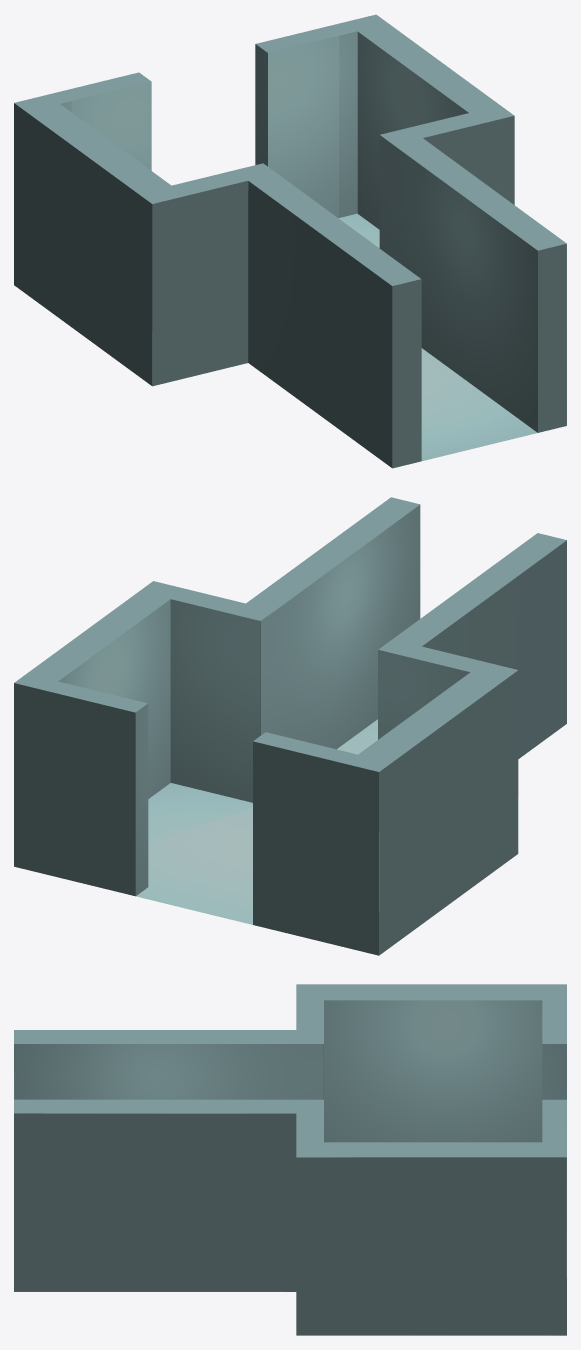
Rendered from tutorial_room.gltf.
3 views of the same model, one above another, from view 1: azimuth 30°, elevation 25°; view 2: azimuth 150°, elevation 25°; view 3: azimuth 270°, elevation 25° (orthographic). The views are drawn at different scales.
Visible parts, largest first — view 1: Plane; view 2: Plane; view 3: Plane.
Part boxes in pixels (x1=…): Plane: x1=14, y1=14, x2=566, y2=468; Plane: x1=14, y1=497, x2=566, y2=955; Plane: x1=14, y1=984, x2=566, y2=1335.
Bounding box in the file's own units: 11.03 × 5.3 × 14.89.
1 material, 1 textured.
